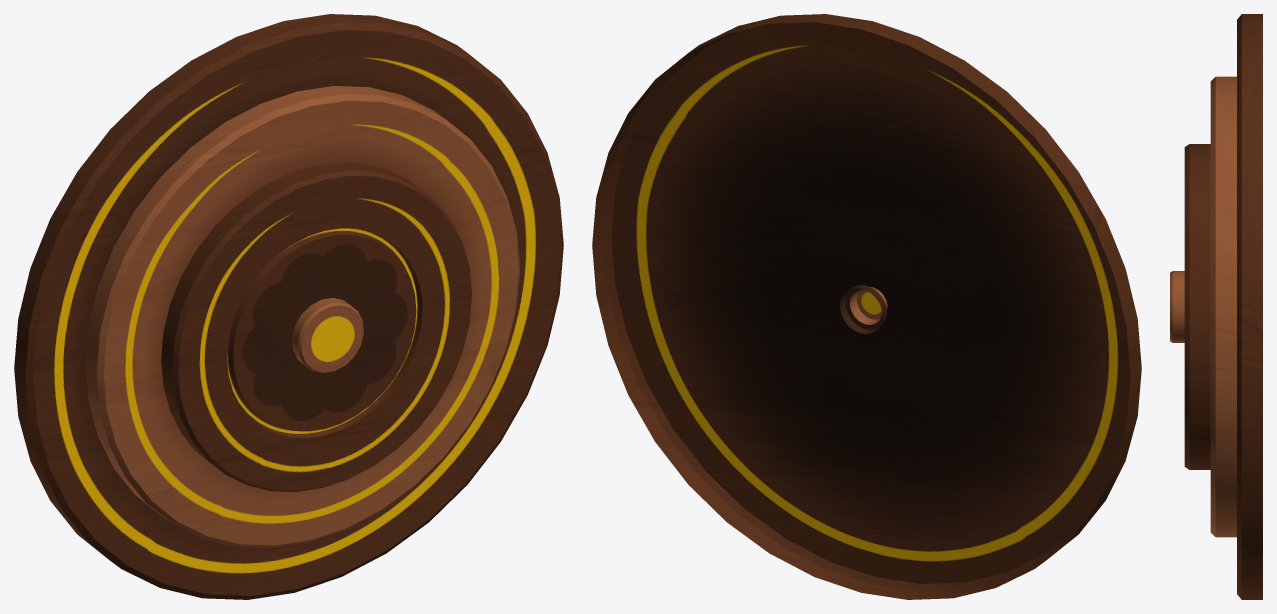
File: RotatingLock.fbx
3 renders of one model, left to right at view 1: azimuth 30°, elevation 25°; view 2: azimuth 150°, elevation 25°; view 3: azimuth 270°, elevation 25°, orthographic. The views are drawn at different scales.
Parts seen in each view (by area): view 1: Rotating_Cylinder3, Rotating_Cylinder1, Rotating_Cylinder2; view 2: Rotating_Cylinder3, Rotating_Point; view 3: Rotating_Cylinder3, Rotating_Cylinder2, Rotating_Cylinder1.
Part boxes in pixels (x1,y1,x2,y2): Rotating_Cylinder3: (14, 14, 563, 599); Rotating_Cylinder1: (161, 162, 471, 491); Rotating_Cylinder2: (85, 86, 519, 548); Rotating_Cylinder3: (592, 14, 1141, 599); Rotating_Point: (840, 285, 887, 333); Rotating_Cylinder3: (1237, 14, 1262, 599); Rotating_Cylinder2: (1210, 76, 1236, 537); Rotating_Cylinder1: (1170, 144, 1210, 469).
Size of the model in its own units: 50.48 by 50.48 by 7.97.
